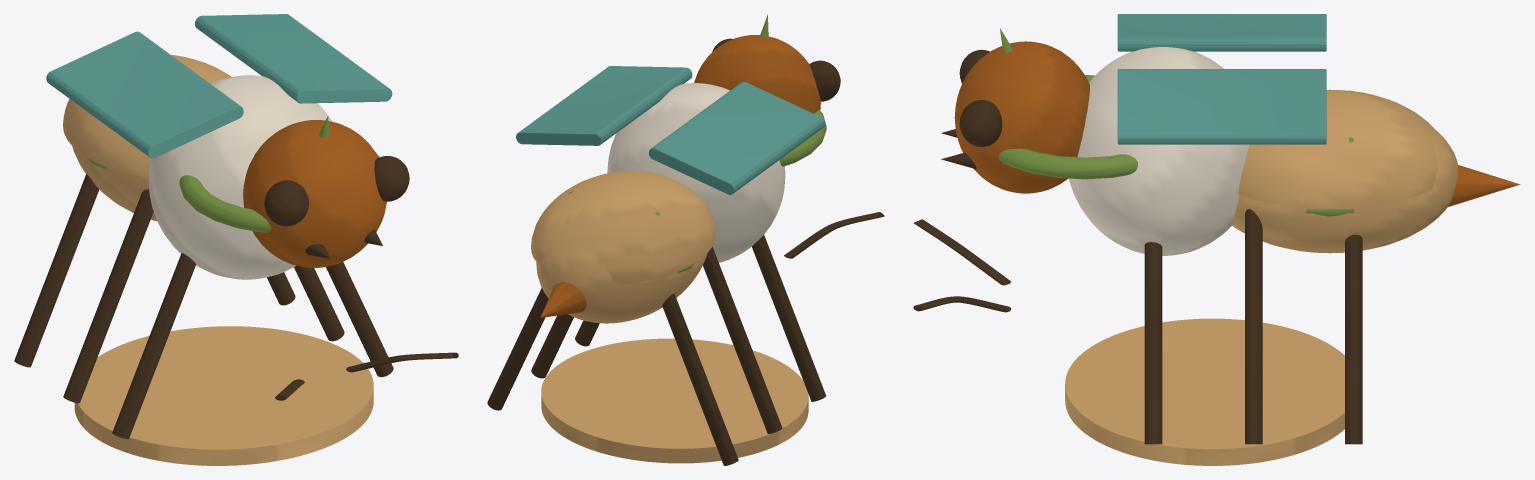
File: 0006_昆虫图鉴_纳米布沙漠甲虫.glb
3 renders of one model, left to right at view 1: azimuth 30°, elevation 25°; view 2: azimuth 150°, elevation 25°; view 3: azimuth 270°, elevation 25°, orthographic. The views are drawn at different scales.
Visible parts, largest first — view 1: card_0006; view 2: card_0006; view 3: card_0006.
Boxes of the visible parts, <box> form: card_0006: <box>14,14,458,465</box>; card_0006: <box>487,14,884,465</box>; card_0006: <box>913,14,1520,465</box>.
Bounding box in the file's own units: 0.7992 × 1 × 1.48.
